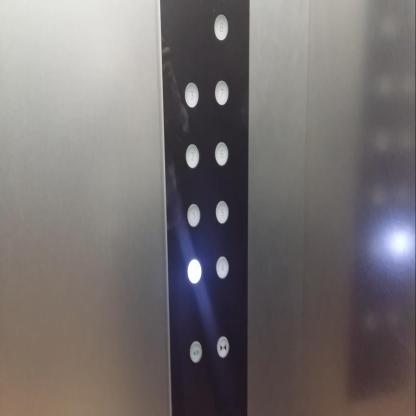1: (186, 202, 200, 228)
2: (185, 142, 199, 167)
3: (184, 80, 198, 108)
4: (214, 254, 229, 279)
5: (215, 199, 228, 224)
6: (214, 140, 228, 167)
7: (214, 78, 228, 106)
8: (214, 13, 228, 42)
close: (216, 335, 229, 358)
empty: (188, 258, 202, 284)
open: (188, 339, 202, 364)
